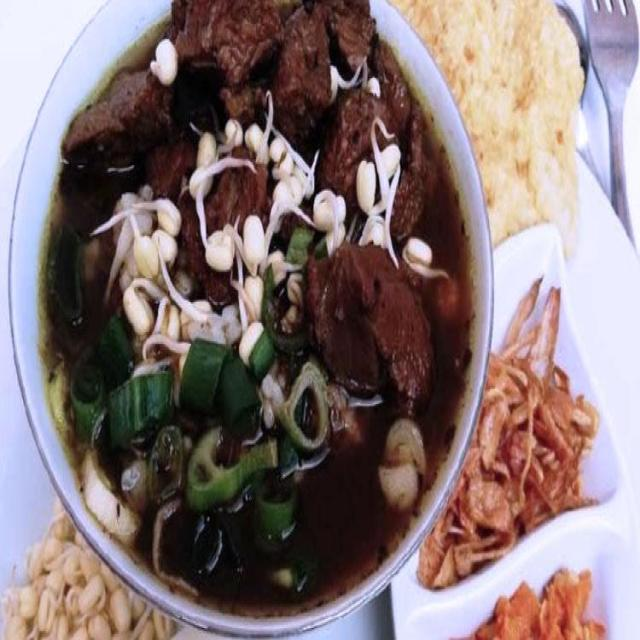Rawon: (44, 57, 449, 553)
